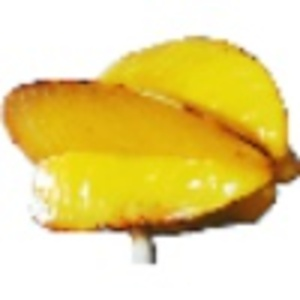carambola: (1, 33, 300, 260)
